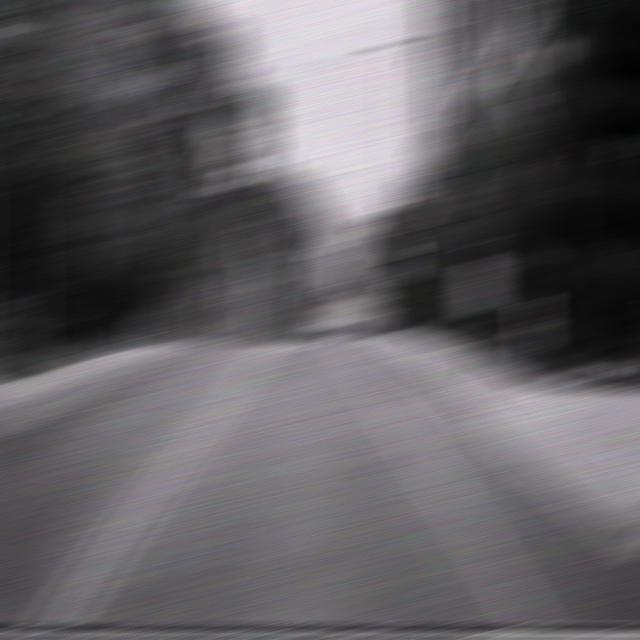pedestrianCrossing: (386, 262, 416, 285)
